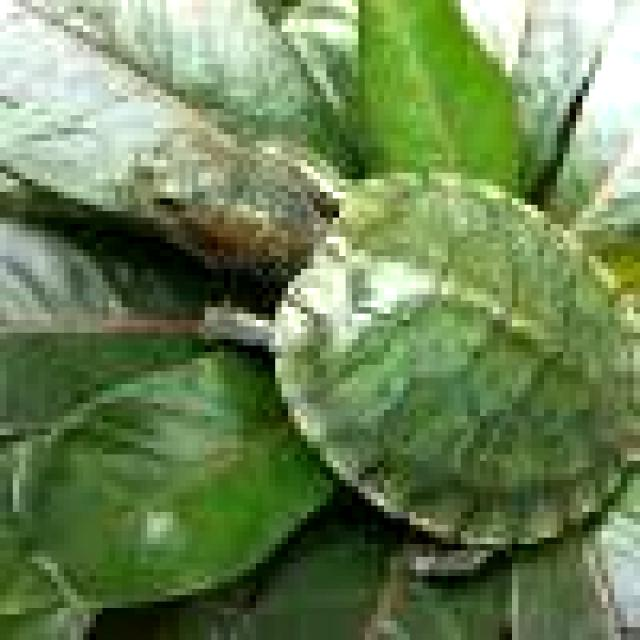Sea turtle: (114, 83, 640, 579)
